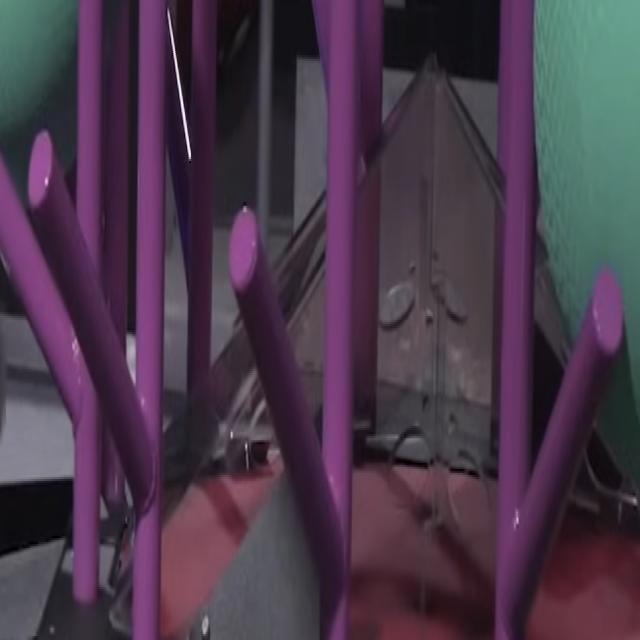Algae: (533, 0, 639, 469), (0, 0, 116, 212)
Reef: (28, 128, 154, 506), (230, 206, 344, 607), (504, 269, 623, 631), (1, 154, 77, 430), (164, 9, 192, 285)
